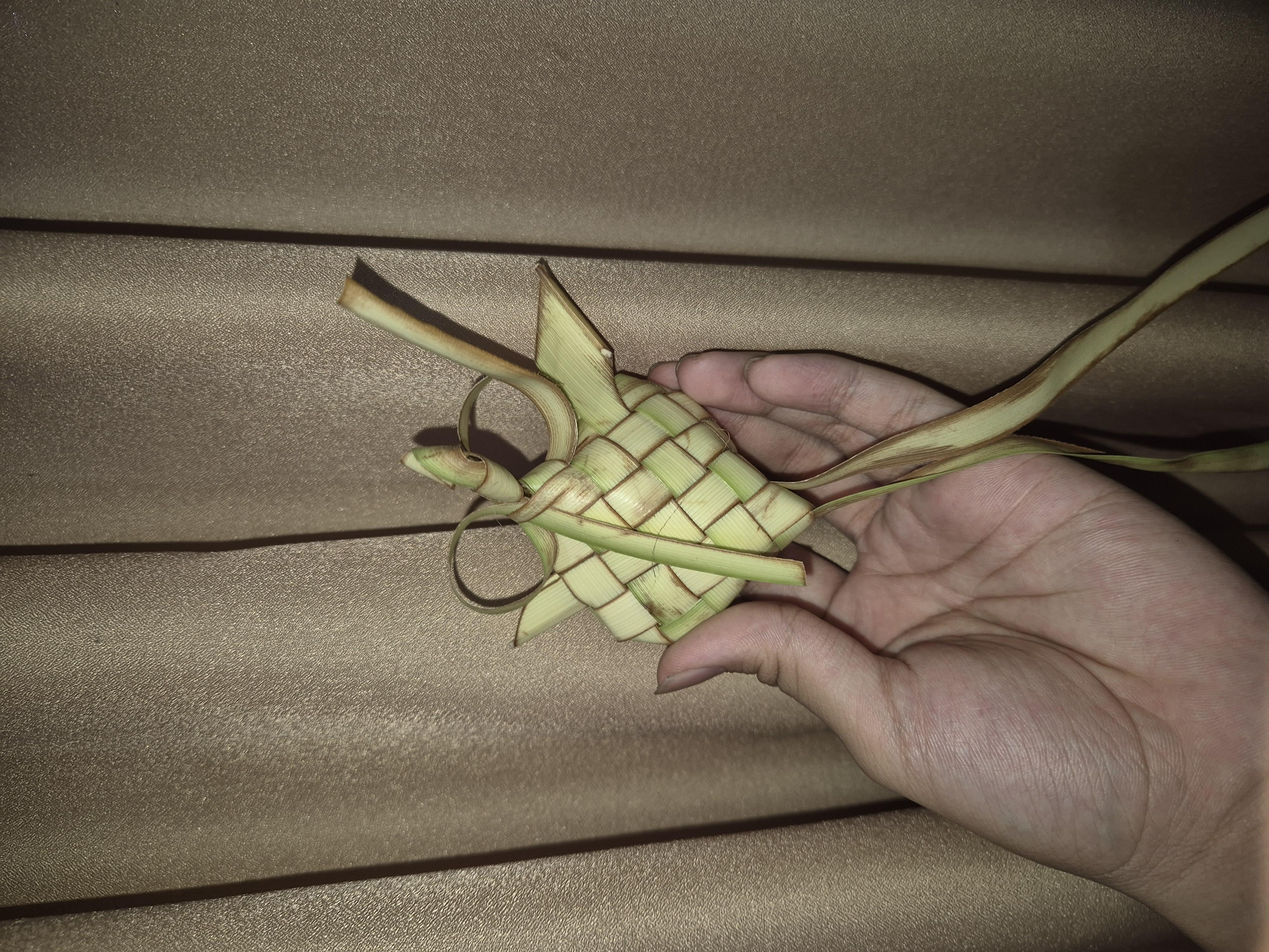Tipat Dampulan: (409, 254, 916, 611)
